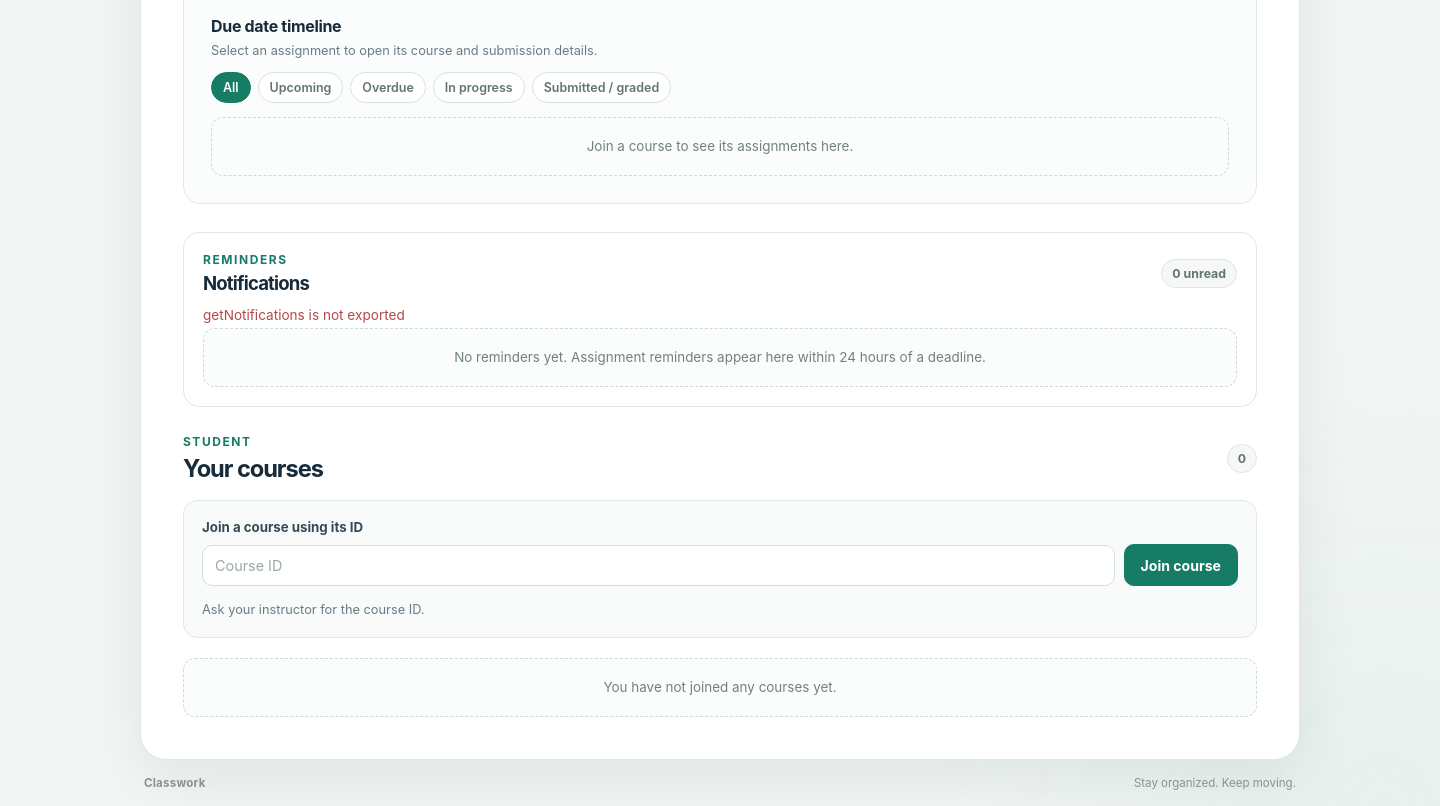
it: a student can join a course by its ID
(page scrolled)
Type "41" into the number field labelled "Join a course using its ID".
click(658, 565); type("41")  # box [202, 544, 1114, 586]
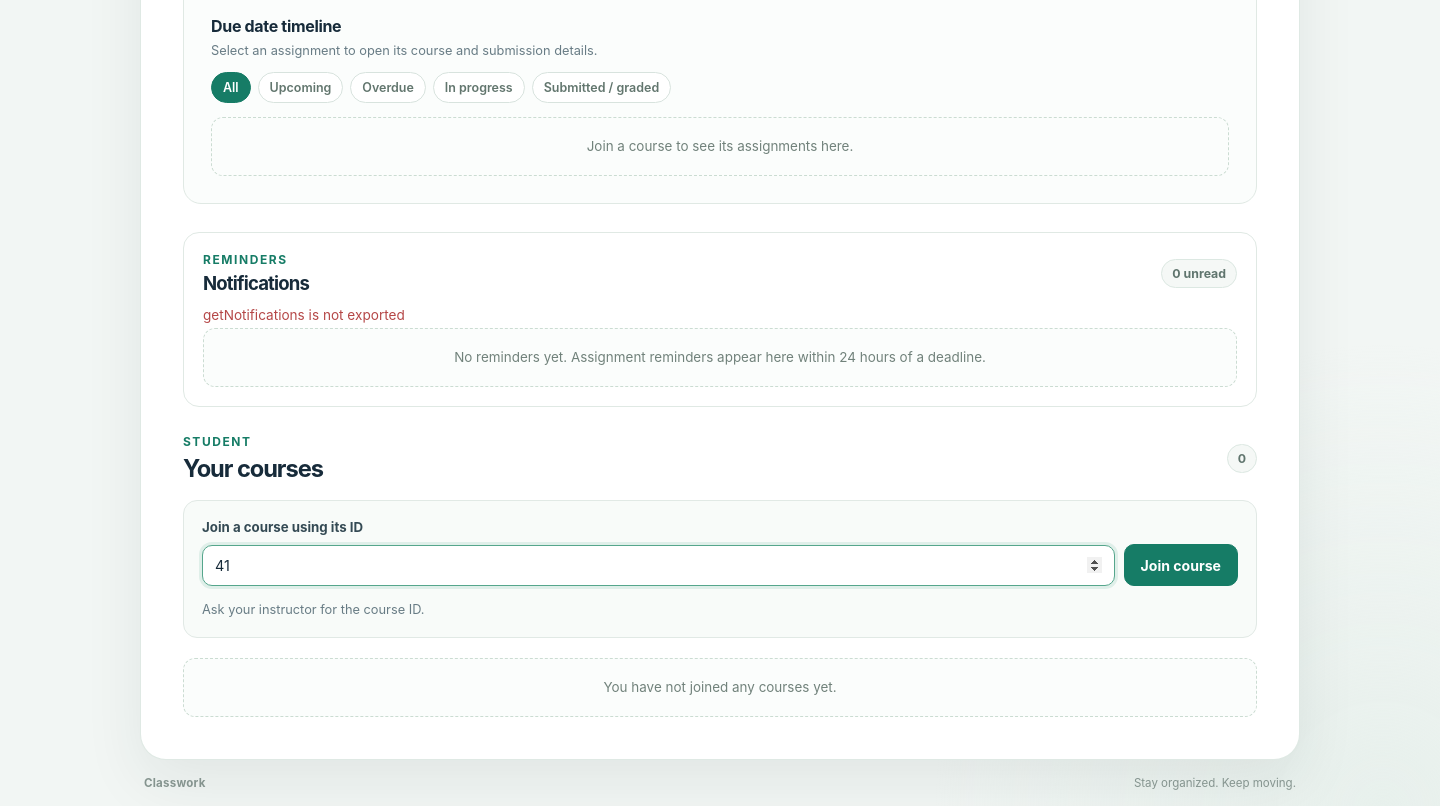
Click the button "Join course".
click(1181, 565)  # box [1124, 544, 1238, 586]
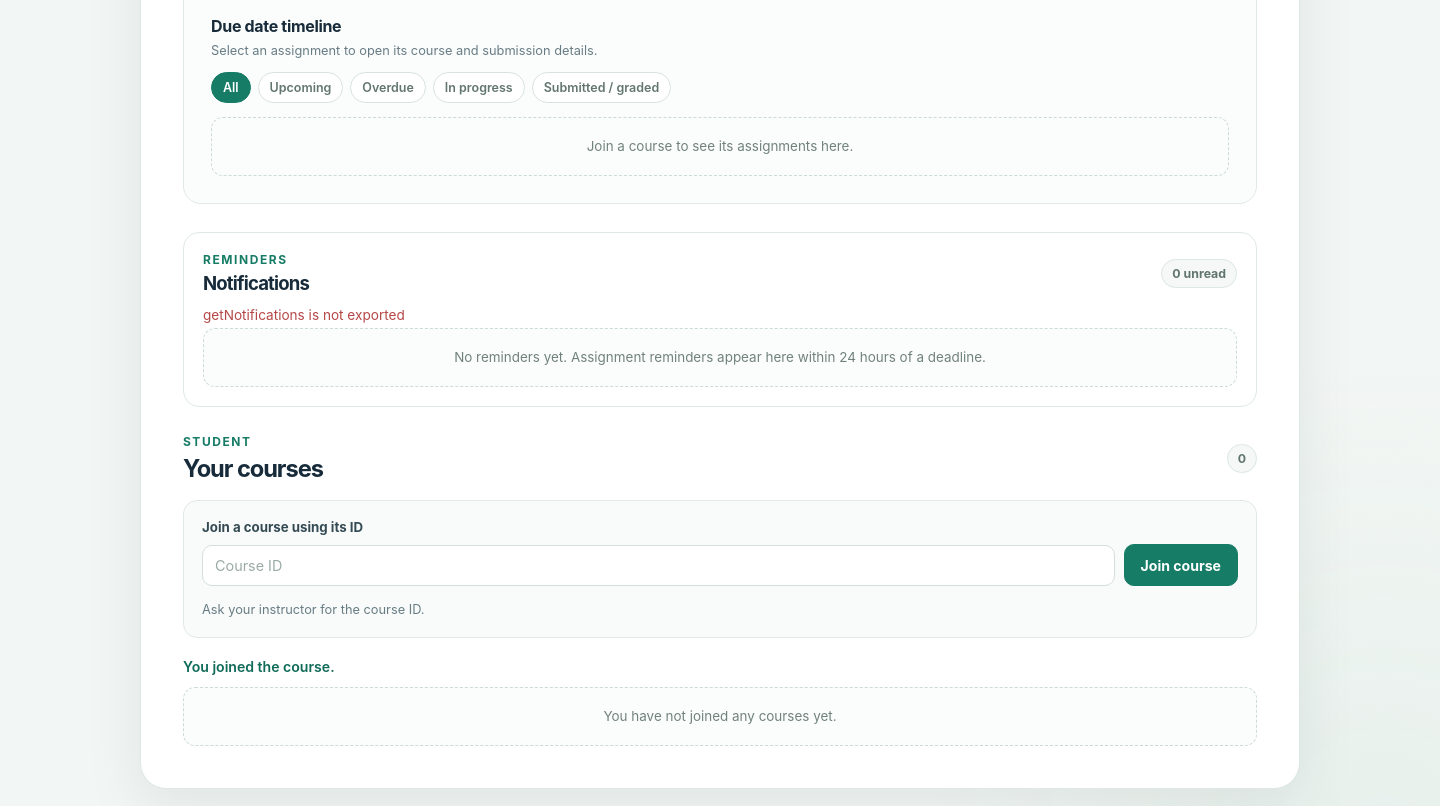
Result: the text "You joined the course." is shown at [183, 658, 335, 675]
